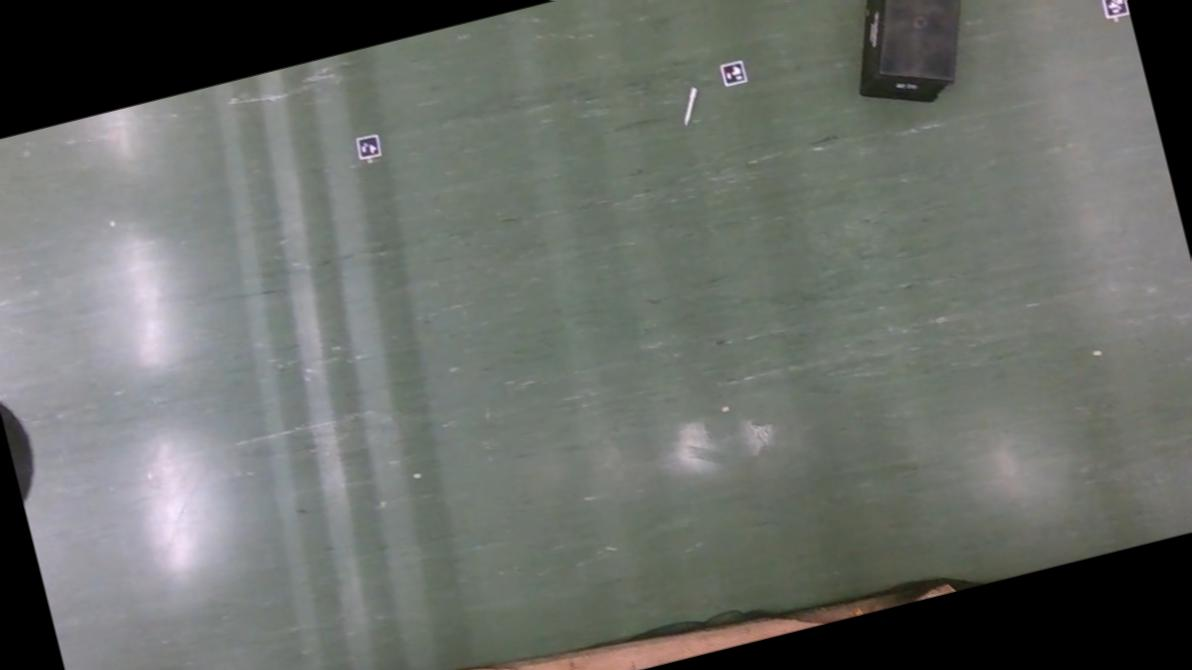probes: (676, 87, 703, 126)
rako: (832, 0, 991, 120)
